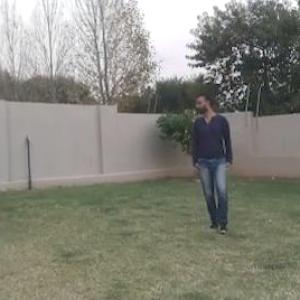follow: (198, 92, 232, 225)
